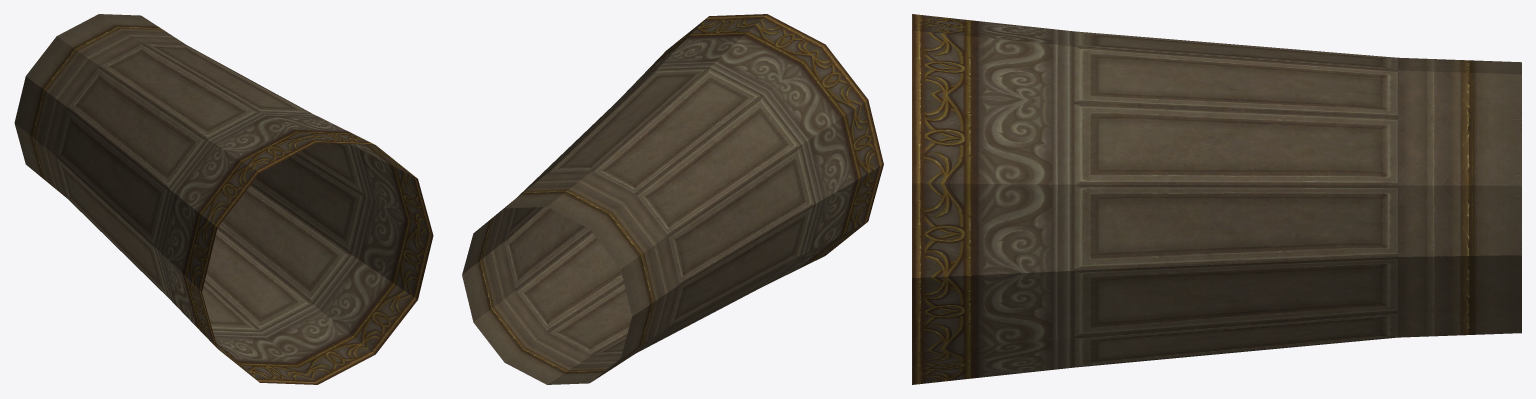
File: huodong_fuben_625_zhuzi_01.obj
3 renders of one model, left to right at view 1: azimuth 30°, elevation 25°; view 2: azimuth 150°, elevation 25°; view 3: azimuth 270°, elevation 25°, orthographic. The views are drawn at different scales.
Parts seen in each view (by area): view 1: objhuodong_fuben_625_zhuzi_01; view 2: objhuodong_fuben_625_zhuzi_01; view 3: objhuodong_fuben_625_zhuzi_01.
Boxes of the visible parts, x1,y1,x2,y2 form: objhuodong_fuben_625_zhuzi_01: (14,14,433,384); objhuodong_fuben_625_zhuzi_01: (462,14,883,384); objhuodong_fuben_625_zhuzi_01: (912,14,1521,384).
Size of the model in its own units: 559 by 559 by 916.
Materials: 1 (1 with a texture image).
